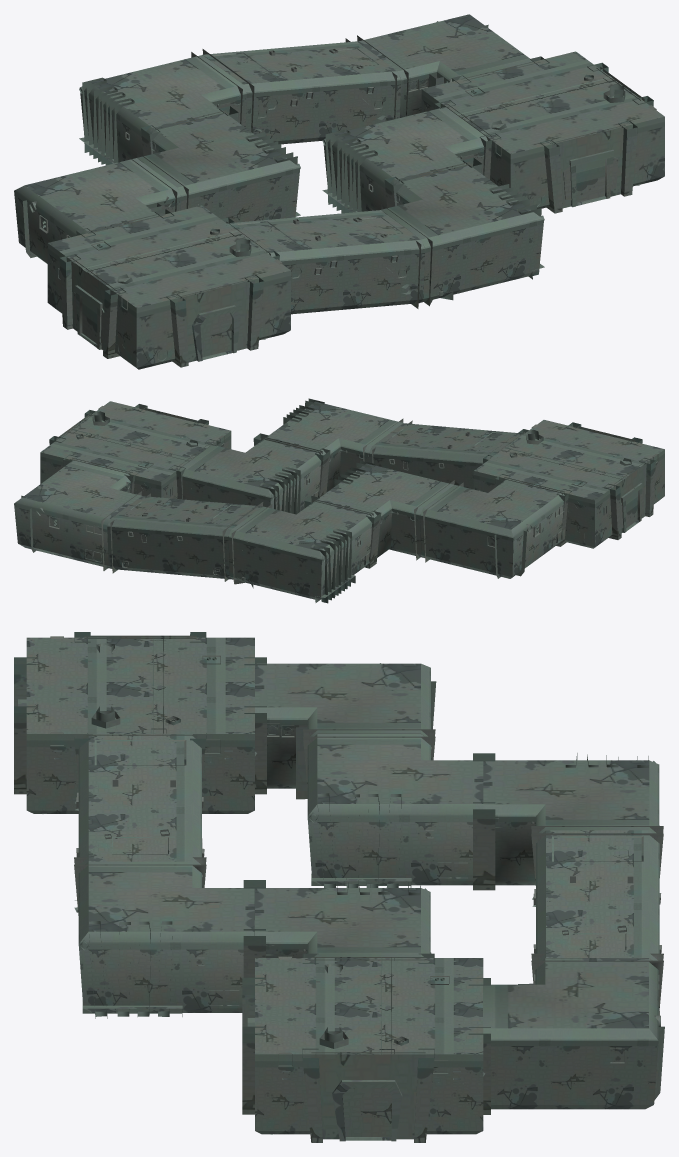
Rendered from Combined_Mesh_root_scene__0_a34a996a__zombies2_diffuse_08_b0bdab26_c1f257.obj.
The picture shows the model from 3 angles, top to bottom: view 1: azimuth 30°, elevation 25°; view 2: azimuth 150°, elevation 25°; view 3: azimuth 270°, elevation 25°; orthographic projection. The views are drawn at different scales.
Bounding box in the file's own units: 81.89 × 12.64 × 57.04.
170 materials, 170 textured.
